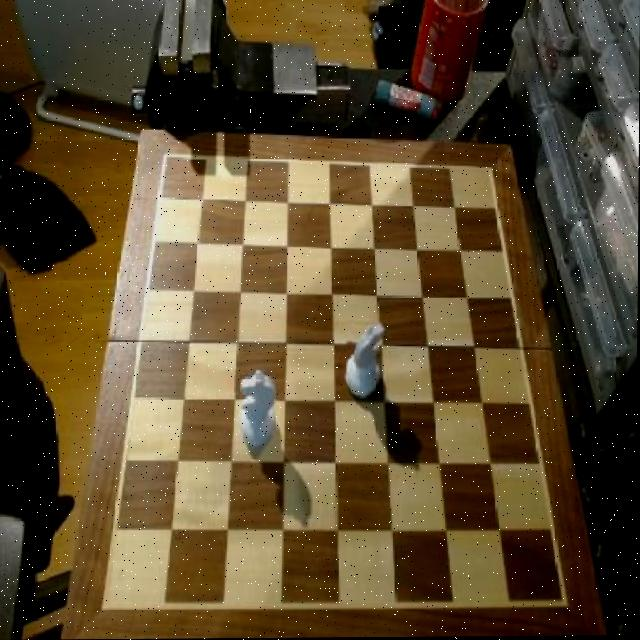white-king: (235, 369, 278, 452), (343, 321, 383, 401)
